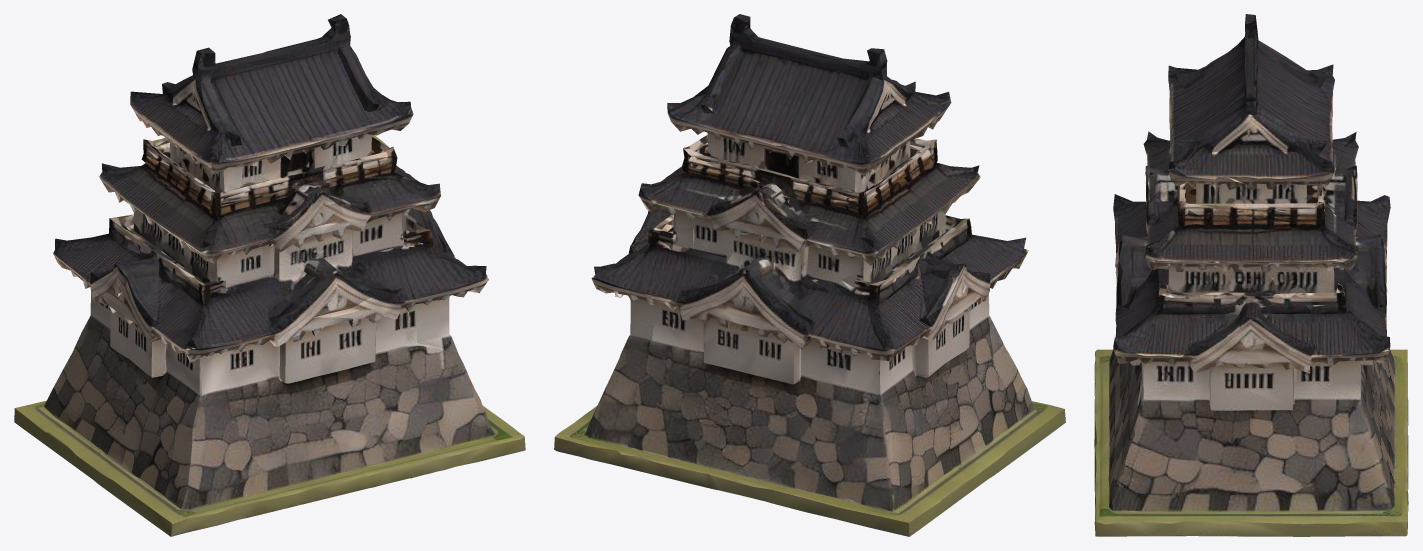
File: odawara-castle.glb
3 renders of one model, left to right at view 1: azimuth 30°, elevation 25°; view 2: azimuth 150°, elevation 25°; view 3: azimuth 270°, elevation 25°, orthographic.
Parts seen in each view (by area): view 1: logan-textured.obj; view 2: logan-textured.obj; view 3: logan-textured.obj.
Part boxes in pixels (box(x1,y1,x2,y2)): logan-textured.obj: box(14, 14, 525, 536); logan-textured.obj: box(554, 14, 1065, 536); logan-textured.obj: box(1094, 14, 1408, 536).
Size of the model in its own units: 0.9256 by 1 by 0.7085.
Materials: 1 (1 with a texture image).
